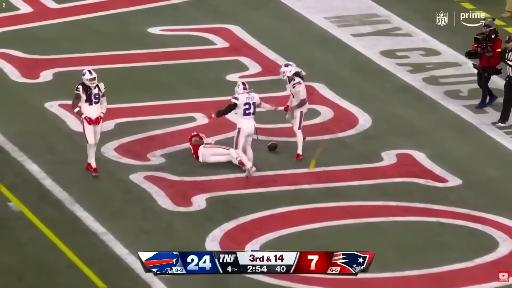Helmet: (280, 62, 305, 79), (82, 70, 97, 87), (189, 132, 206, 143), (235, 82, 249, 94)
Jersey: (75, 83, 105, 118), (232, 93, 259, 127), (287, 77, 306, 106), (189, 134, 203, 160)
Player: (214, 82, 277, 177), (72, 70, 107, 177), (280, 63, 307, 161), (189, 133, 245, 169)
